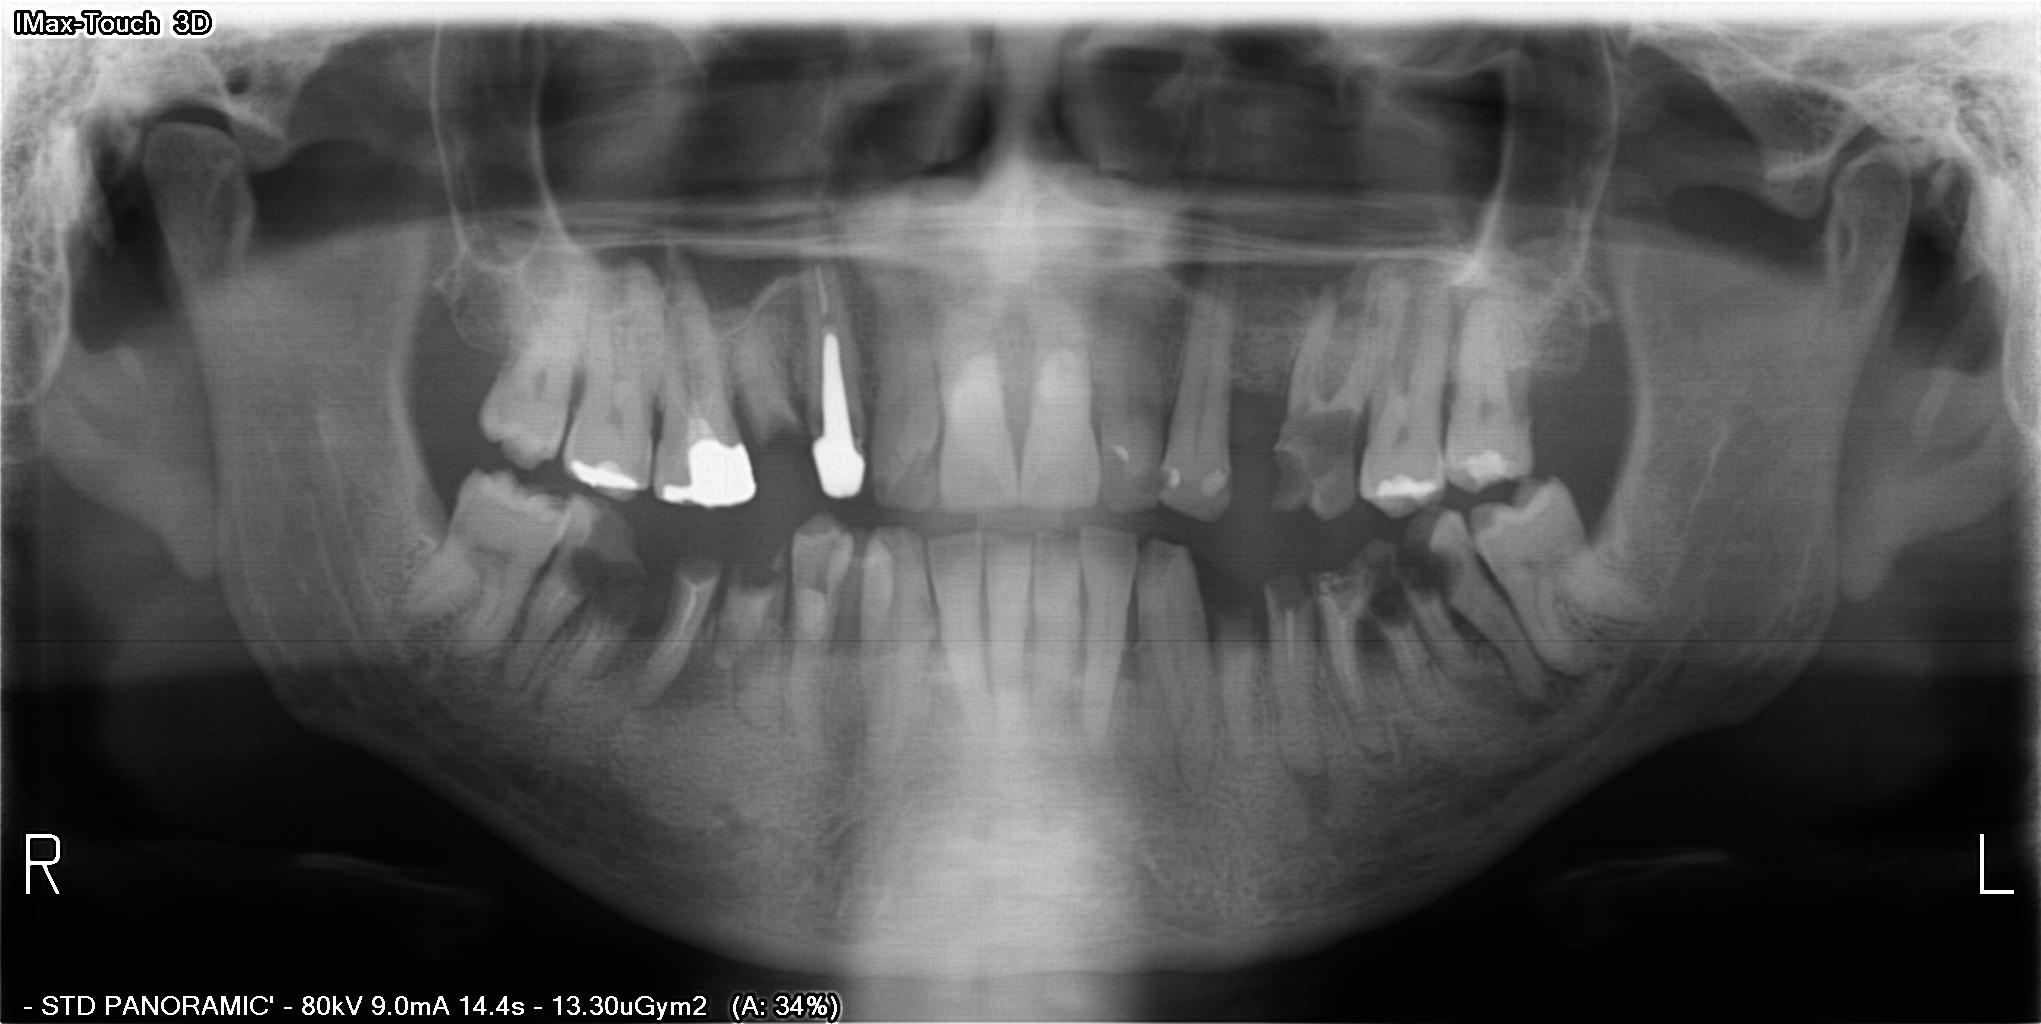Çürük: (656, 422, 757, 511), (816, 324, 866, 504), (567, 451, 645, 498), (1371, 457, 1440, 509), (1466, 445, 1517, 486), (1200, 469, 1222, 503)
Çürük Bölgesi: (560, 536, 649, 633), (1363, 556, 1422, 630), (1303, 406, 1358, 474), (1404, 536, 1459, 594), (897, 434, 939, 500), (735, 545, 786, 596), (1272, 571, 1316, 615), (1272, 452, 1307, 496), (1320, 573, 1365, 607), (1139, 470, 1170, 495)
